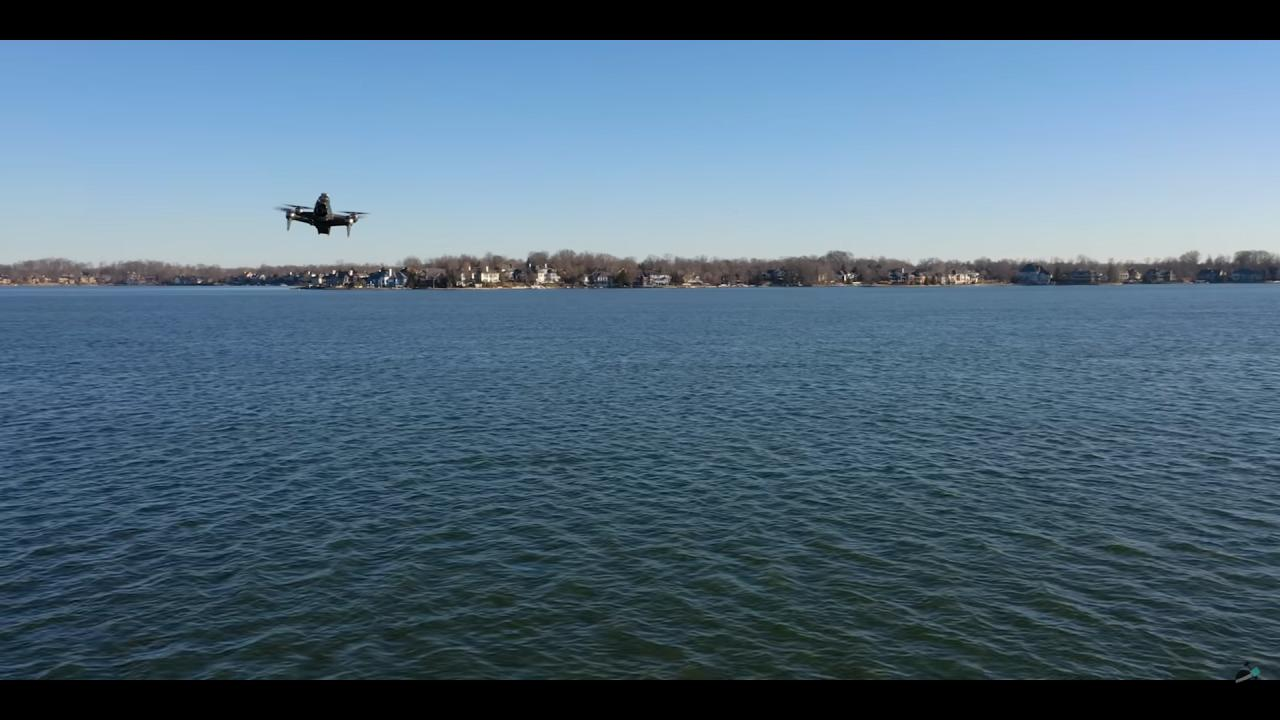Drone: (268, 185, 372, 246)
